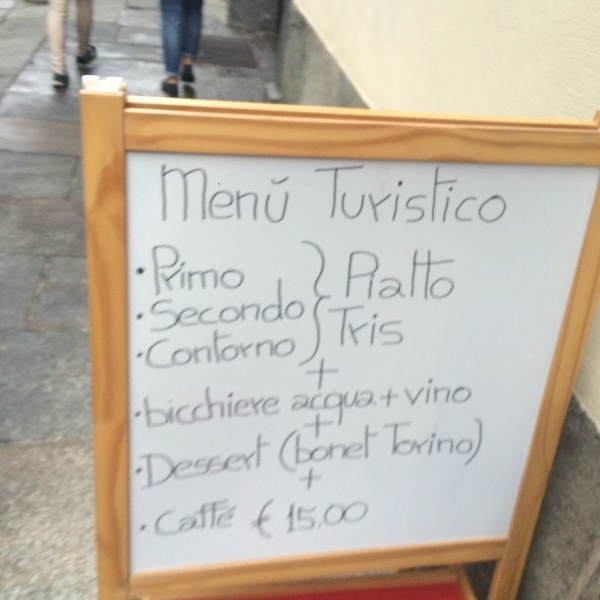text: (145, 231, 160, 304), (161, 231, 176, 304), (177, 231, 192, 304), (193, 231, 208, 304), (209, 231, 224, 304), (225, 231, 240, 304), (161, 163, 176, 227), (177, 163, 192, 227), (193, 163, 208, 227), (209, 163, 224, 227), (225, 163, 240, 227), (241, 163, 256, 227), (257, 163, 272, 227), (273, 163, 288, 227), (145, 433, 160, 493), (161, 433, 176, 493), (177, 433, 192, 493), (193, 433, 208, 493), (209, 433, 224, 493), (225, 433, 240, 493), (241, 433, 256, 493), (145, 320, 160, 380), (161, 320, 176, 380), (177, 320, 192, 380), (193, 320, 208, 380), (209, 320, 224, 380), (225, 320, 240, 380), (241, 320, 256, 380), (257, 320, 272, 380), (273, 320, 288, 380), (145, 274, 160, 334), (161, 274, 176, 334), (177, 274, 192, 334), (193, 274, 208, 334), (209, 274, 224, 334), (225, 274, 240, 334), (241, 274, 256, 334), (257, 274, 272, 334), (273, 274, 288, 334), (289, 274, 304, 334), (321, 165, 336, 222), (337, 165, 352, 222), (353, 165, 368, 222), (369, 165, 384, 222), (385, 165, 400, 222), (401, 165, 416, 222), (417, 165, 432, 222), (433, 165, 448, 222), (449, 165, 464, 222), (465, 165, 480, 222), (481, 165, 496, 222), (257, 433, 271, 493), (145, 376, 160, 432), (161, 376, 176, 432), (177, 376, 192, 432), (193, 376, 208, 432), (209, 376, 224, 432), (225, 376, 240, 432), (241, 376, 256, 432), (257, 376, 272, 432), (289, 423, 304, 478), (305, 423, 320, 478), (321, 423, 336, 478), (337, 423, 352, 478), (353, 423, 368, 478), (385, 417, 400, 472), (401, 417, 416, 472), (417, 417, 432, 472), (433, 417, 448, 472), (449, 417, 464, 472), (465, 417, 480, 472), (133, 231, 144, 304), (353, 249, 368, 302), (369, 249, 384, 302), (385, 249, 400, 302), (401, 249, 416, 302), (417, 249, 432, 302), (433, 249, 448, 302), (257, 495, 272, 541), (225, 497, 241, 540), (337, 305, 352, 349), (353, 305, 368, 349), (369, 305, 384, 349), (385, 305, 400, 349), (145, 497, 160, 540), (161, 497, 176, 540), (177, 497, 192, 540), (193, 497, 208, 540), (209, 497, 224, 540), (497, 165, 508, 222), (133, 376, 144, 432), (305, 387, 320, 428), (321, 387, 336, 428), (337, 387, 352, 428), (353, 387, 368, 428), (369, 423, 380, 478), (134, 433, 144, 493), (290, 387, 304, 428), (273, 376, 283, 432), (321, 355, 336, 389), (289, 501, 304, 534), (305, 501, 320, 534), (321, 501, 336, 534), (337, 501, 352, 534), (353, 501, 368, 534), (136, 274, 144, 334), (280, 423, 288, 478), (417, 377, 432, 406), (433, 377, 448, 406), (449, 377, 464, 406), (449, 249, 457, 302), (137, 320, 144, 380), (289, 320, 296, 380), (369, 387, 379, 428), (308, 355, 320, 389), (403, 377, 416, 406), (305, 468, 320, 493), (305, 413, 320, 438), (241, 231, 246, 304), (314, 165, 320, 222), (321, 413, 334, 438), (385, 388, 400, 409), (329, 305, 336, 349), (348, 249, 352, 302), (465, 377, 472, 406), (401, 305, 405, 349), (141, 497, 144, 540), (299, 468, 304, 493), (481, 417, 483, 472), (337, 355, 340, 389), (273, 495, 275, 541), (380, 388, 384, 409), (321, 468, 324, 493), (369, 501, 371, 534), (289, 163, 290, 227), (305, 274, 306, 334)
